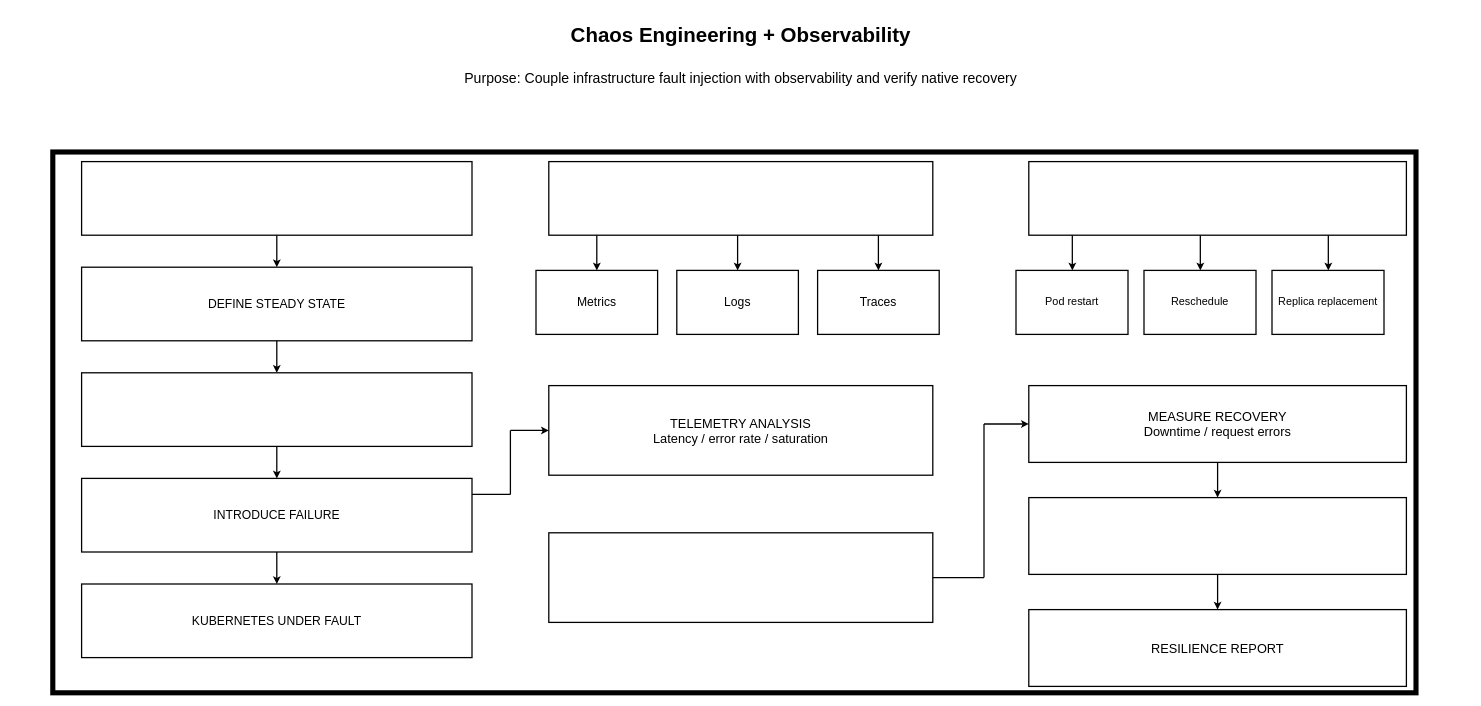
Image size: 1481x706. Some labels were removed from this diagram. The box of each missing label's shape, as (x1, y1, x2, y2) in pixels:
COMPARE AGAINST BASELINE: (1028, 497, 1407, 575)
FORM RESILIENCE HYPOTHESIS: (81, 372, 472, 447)
KUBERNETES / CLOUD-NATIVE AUTOMATED RECOVERY: (548, 532, 933, 623)
KUBERNETES MICROSERVICE SYSTEM: (81, 161, 472, 236)
OBSERVABILITY: (548, 161, 933, 236)
RECOVERY MECHANISMS: (1028, 161, 1407, 236)
